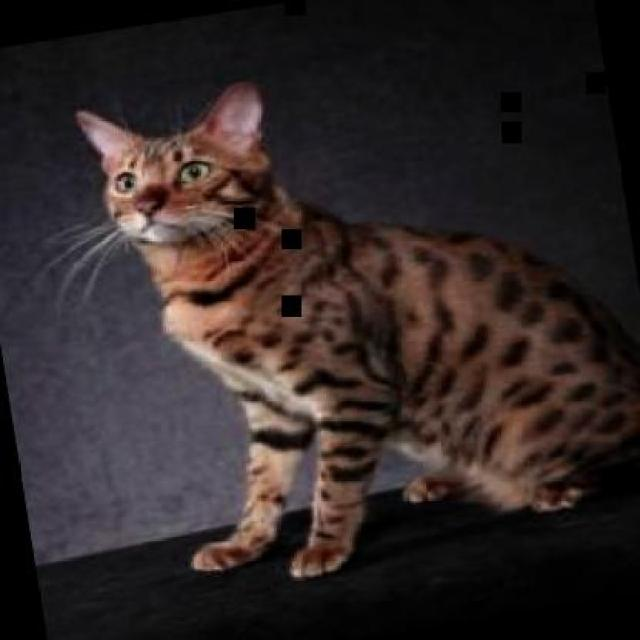cat: (71, 20, 638, 603)
